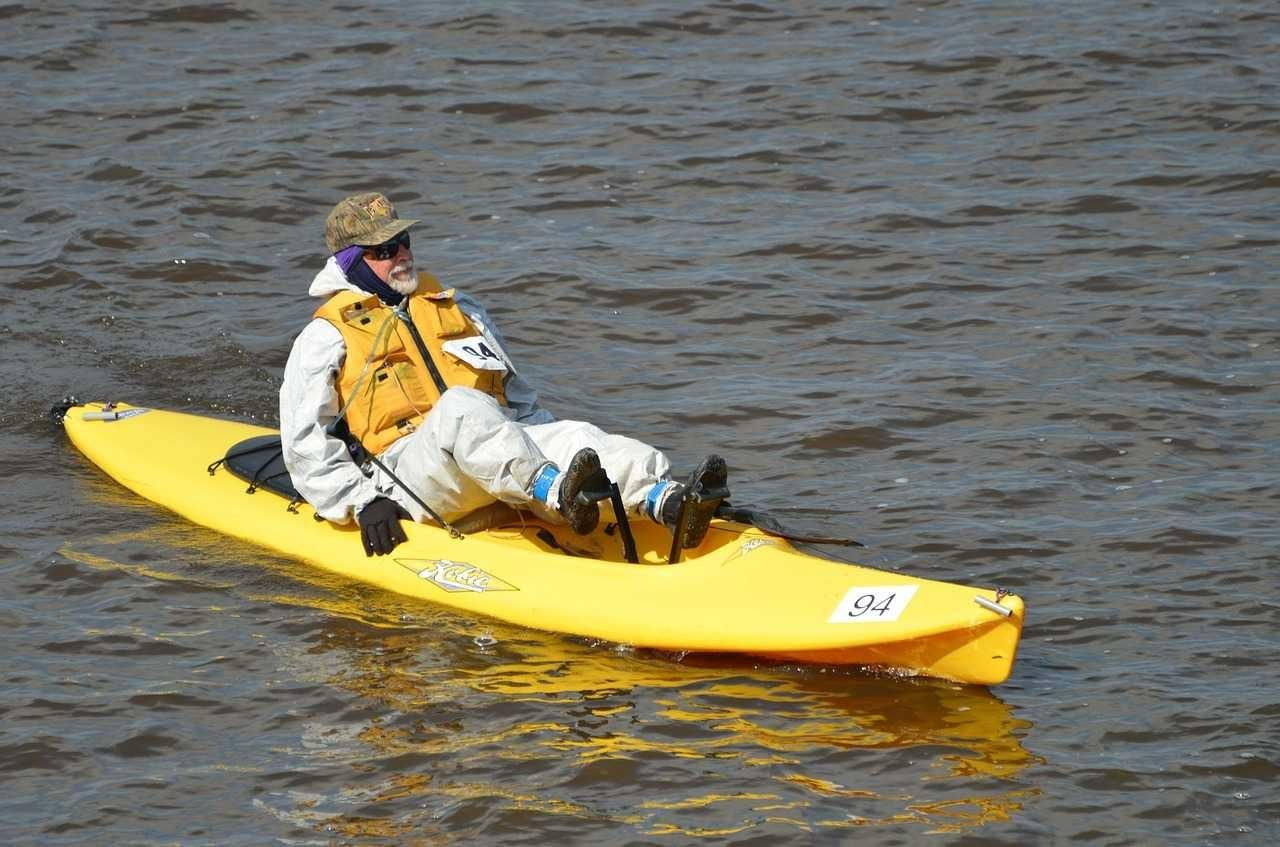kayak: (62, 394, 1025, 687)
